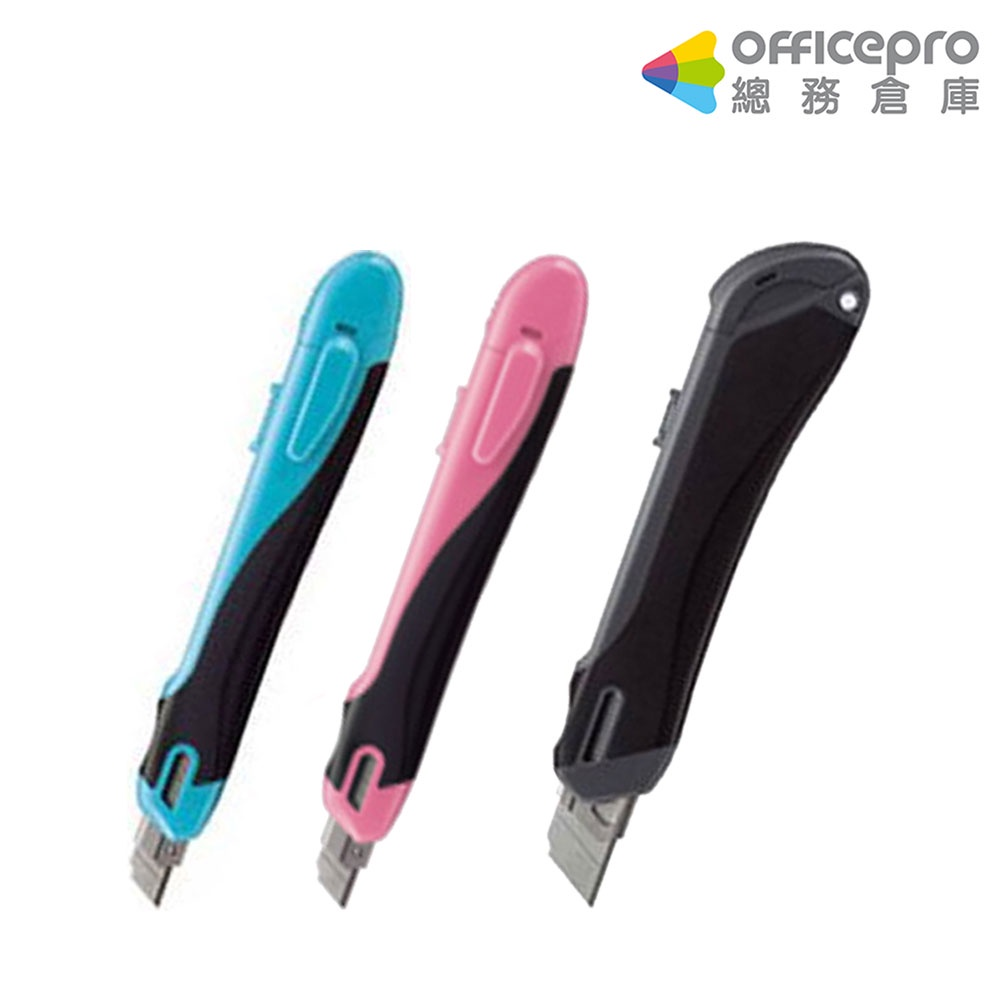cutter: (540, 240, 875, 924), (311, 252, 603, 912), (124, 247, 407, 910)
